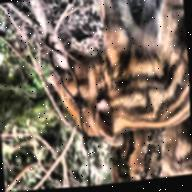boar: (34, 0, 191, 155)
